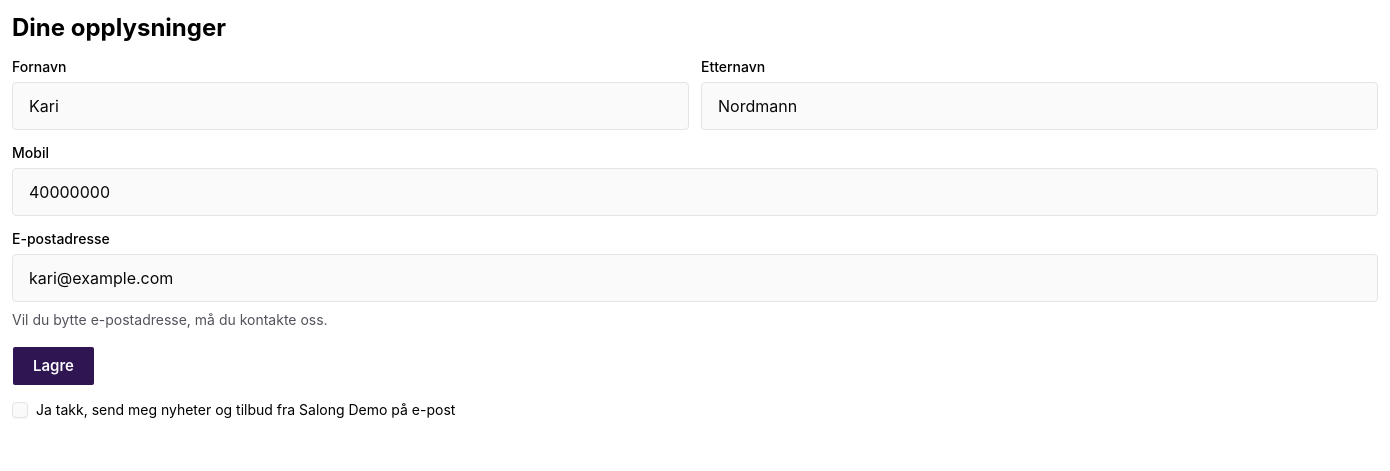
Test: ProfileForm › wires a rejected phone to the phone field
The width and height of the screenshot is (1390, 471).
Replace the text in the field labelled "Mobil" with "1234": (695, 192) [12, 168, 1378, 216]
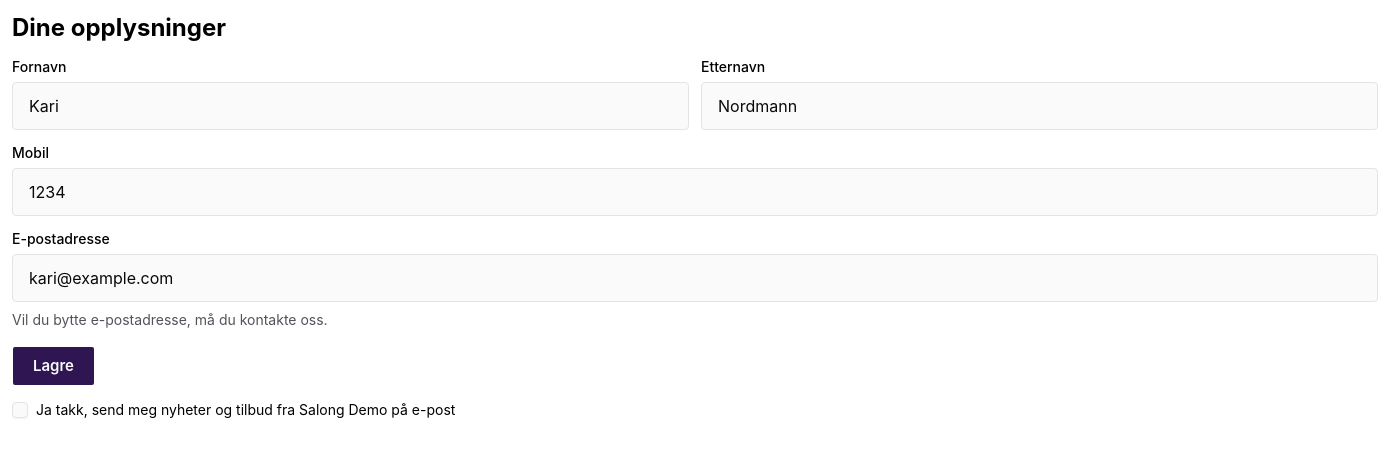
Click the button "Lagre": (54, 366) [12, 346, 95, 386]
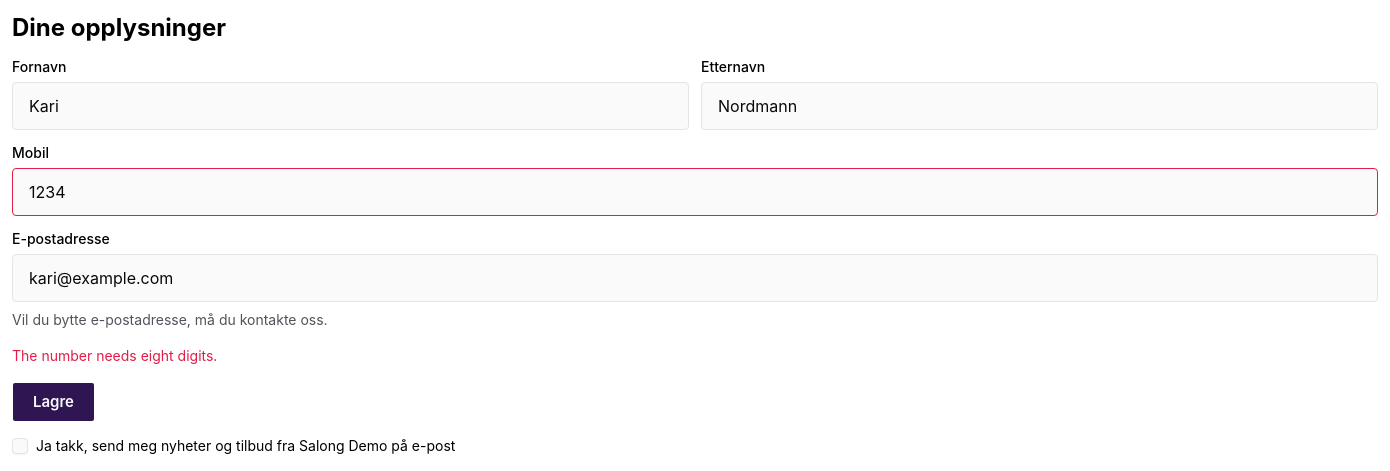
Replace the text in the field labelled "Mobil" with "12345678": (695, 192) [12, 168, 1378, 216]
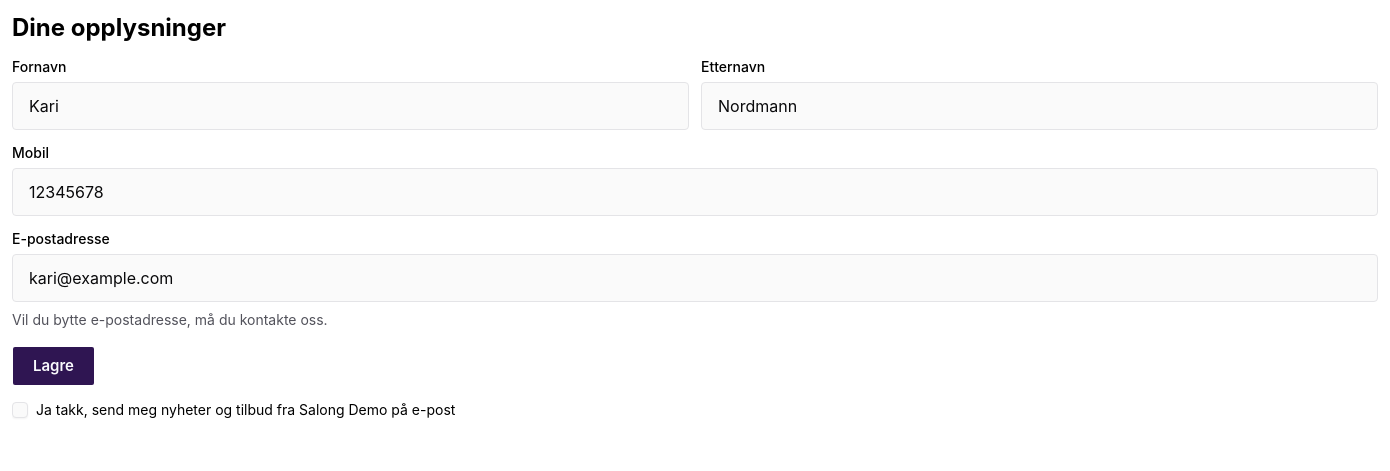
Now the text "The number needs eight digits." is gone
